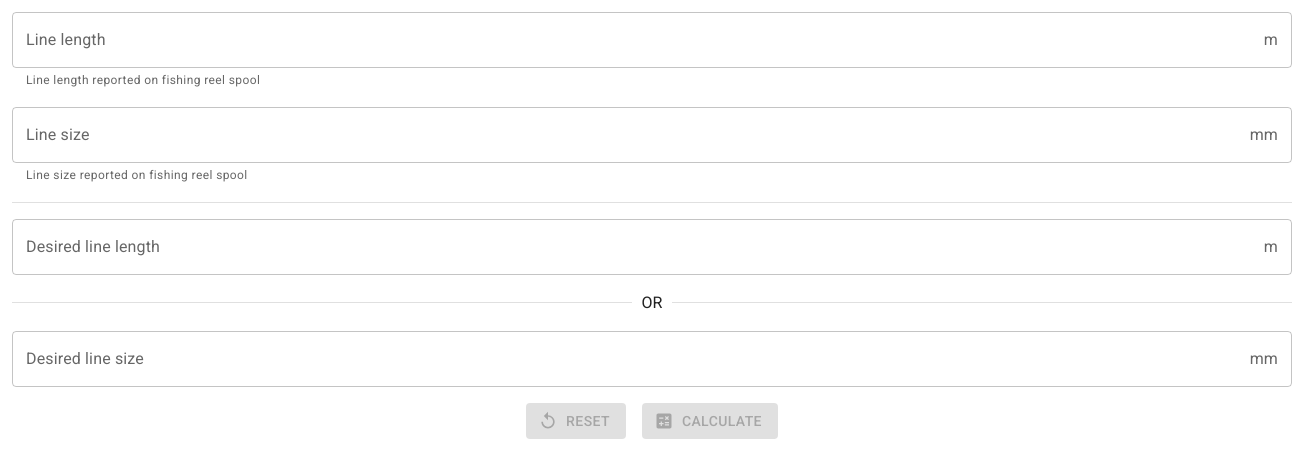
Test: disabled desired line size input
Type "1" into the field labelled "Line length" at {"x": 634, "y": 40}, box [12,12,1256,68]
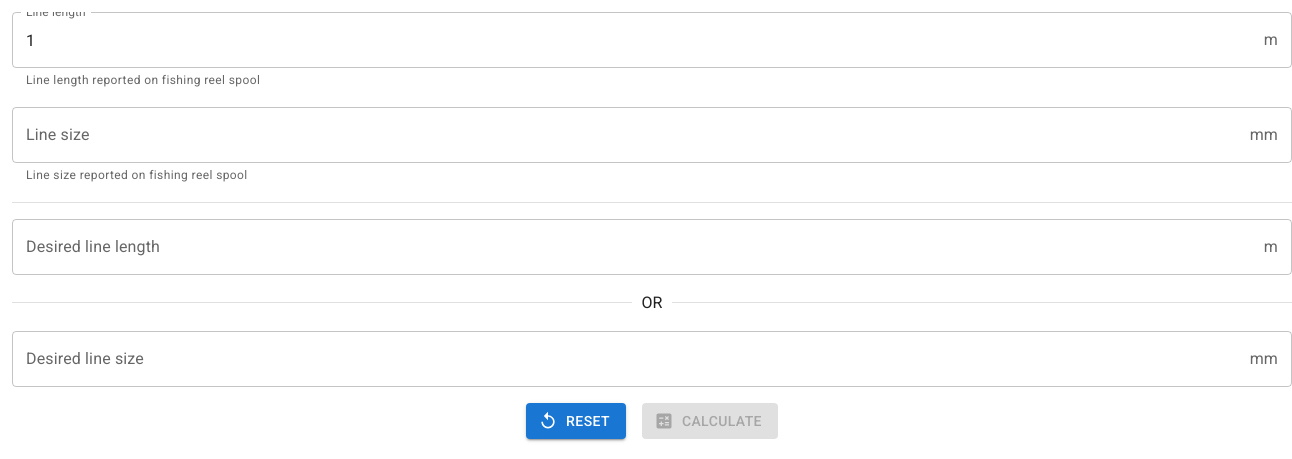
Type "1" into the field labelled "Line size" at {"x": 627, "y": 135}, box [12,107,1242,163]
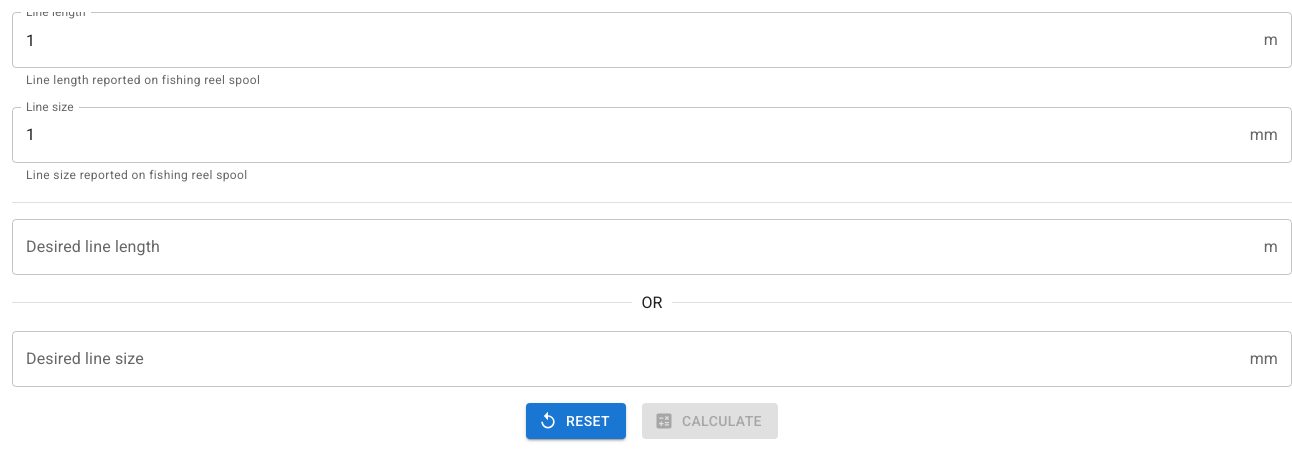
Type "1" into the field labelled "Desired line length" at {"x": 634, "y": 247}, box [12,219,1256,275]
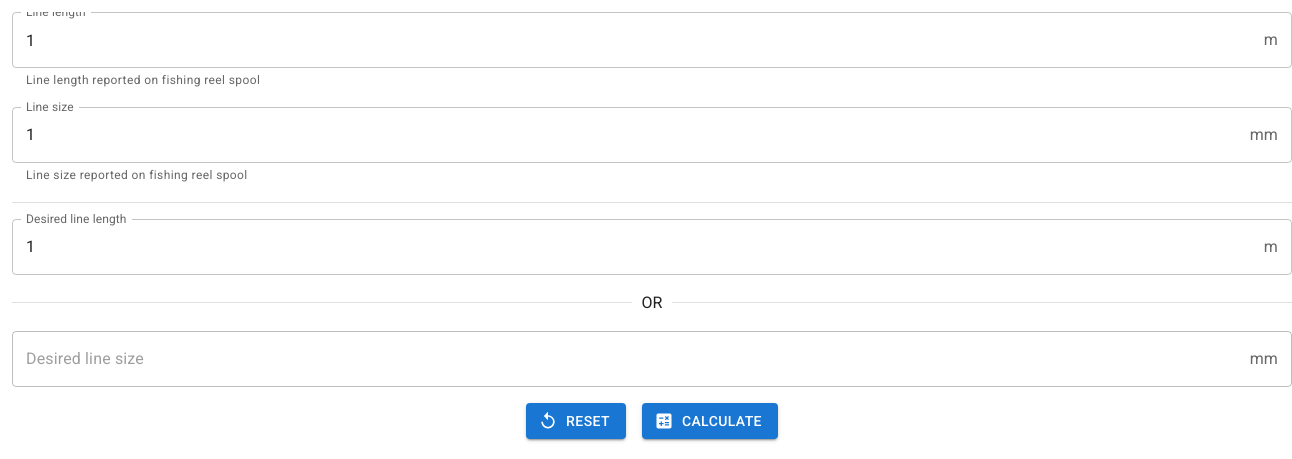
Check: the field labelled "Desired line size" is disabled, box [12,331,1242,387]
